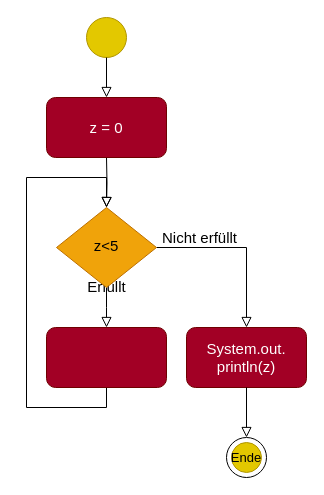
Image size: 324x495. Some labels were removed from this diagram. The centre of each missing label's shape, as x and y in pixels:
Start: point 106,37
z = z+1: point 106,357
